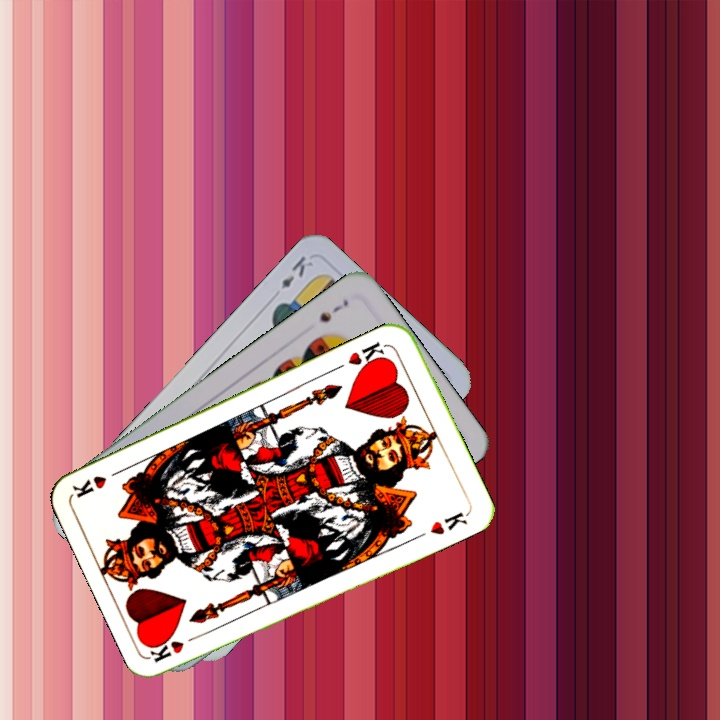EK: (276, 252, 316, 292)
HK: (148, 629, 206, 665), (343, 337, 390, 373)
S7: (315, 294, 351, 325)
